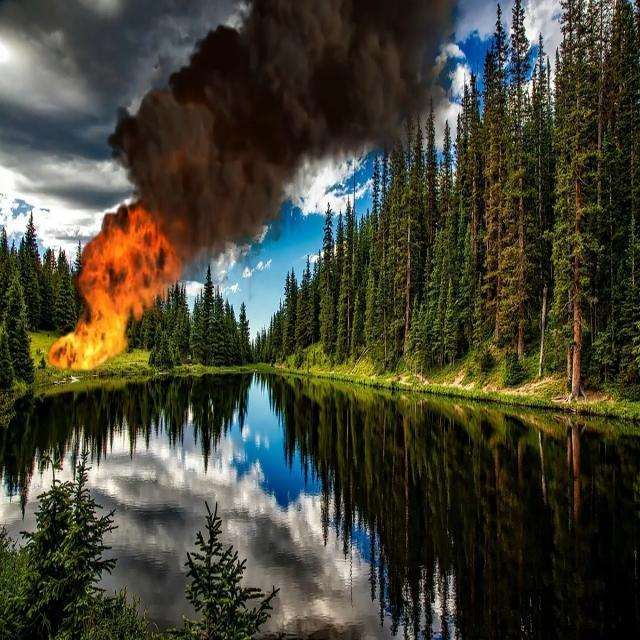Fire: (62, 240, 166, 362)
Smoke: (154, 0, 452, 220)
